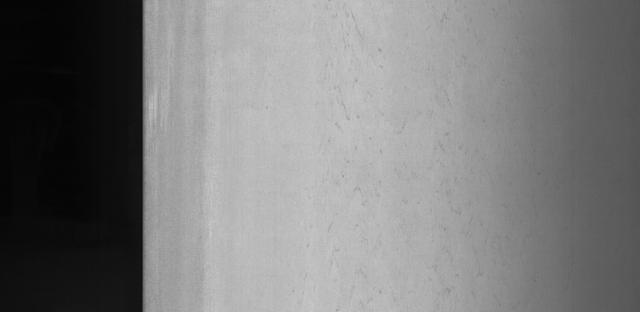silk_spot: (318, 7, 422, 238)
